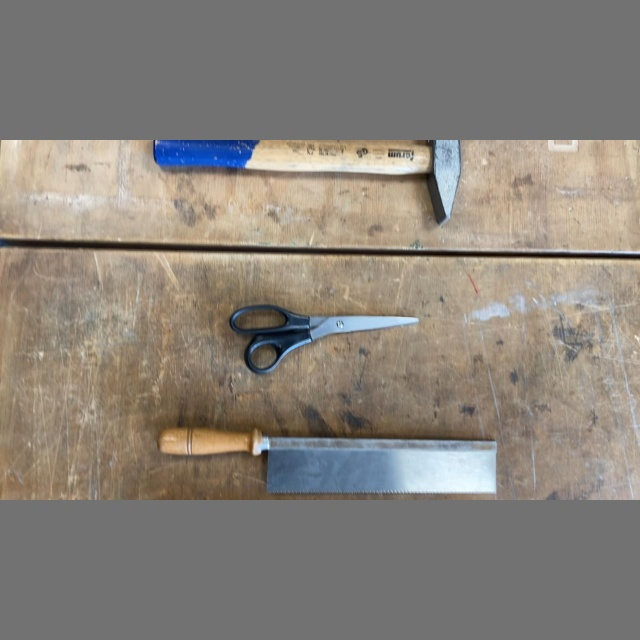scissor: (223, 299, 428, 379)
